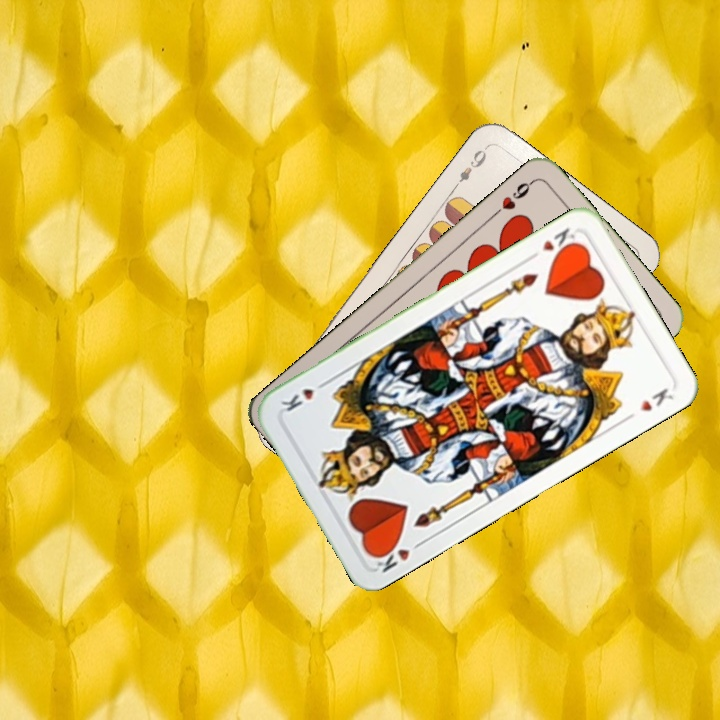E9: (449, 143, 489, 193)
H9: (488, 176, 537, 219)
HK: (368, 536, 427, 576), (525, 223, 580, 263)
